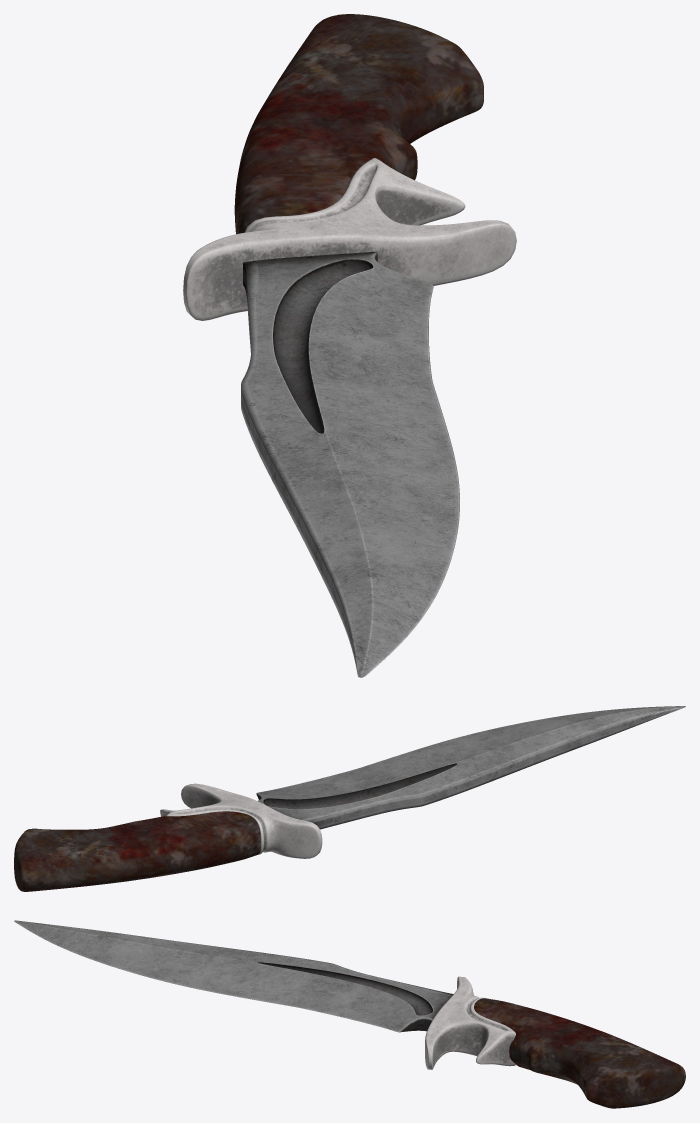
Rendered from elegant-knife.glb.
3 renders of one model, top to bottom at view 1: azimuth 30°, elevation 25°; view 2: azimuth 150°, elevation 25°; view 3: azimuth 270°, elevation 25°, orthographic. The views are drawn at different scales.
Parts seen in each view (by area): view 1: Blade, Handle, Handle prot; view 2: Blade, Handle, Handle prot; view 3: Blade, Handle, Handle prot.
Boxes of the visible parts, x1,y1,x2,y2 form: Blade: (241, 252, 459, 677); Handle: (234, 14, 483, 234); Handle prot: (183, 158, 516, 320); Blade: (256, 706, 685, 829); Handle: (14, 811, 260, 891); Handle prot: (160, 783, 322, 858); Blade: (14, 920, 453, 1032); Handle: (474, 998, 685, 1108); Handle prot: (425, 976, 515, 1069).
Bounding box in the file's own units: 0.7173 × 0.0671 × 1.19.
1 material, 1 textured.
